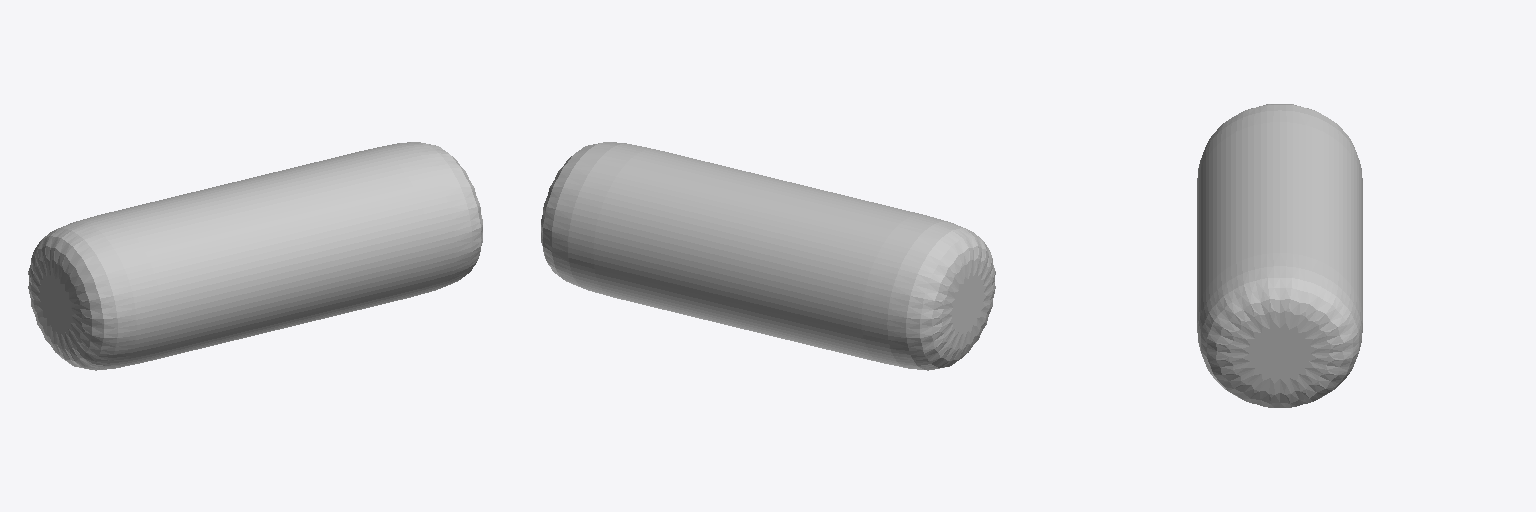
Rendered from llarm.obj.
3 renders of one model, left to right at view 1: azimuth 30°, elevation 25°; view 2: azimuth 150°, elevation 25°; view 3: azimuth 270°, elevation 25°, orthographic.
Visible parts, largest first — view 1: pCylinder2; view 2: pCylinder2; view 3: pCylinder2.
Part boxes in pixels (x1,y1,x2,y2): pCylinder2: (28,142,482,370); pCylinder2: (541,142,995,370); pCylinder2: (1197,104,1362,407).
Bounding box in the file's own units: 1.23 × 0.4004 × 0.4444.